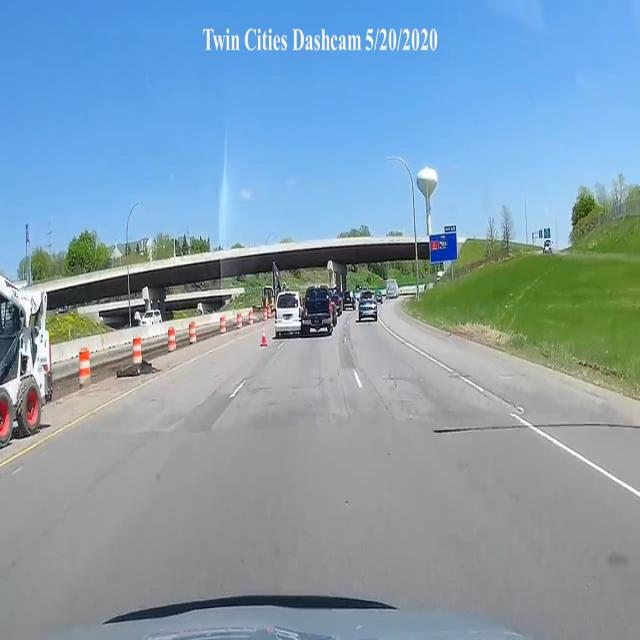Traffic Cone: (1, 400, 14, 442), (258, 328, 269, 346)
